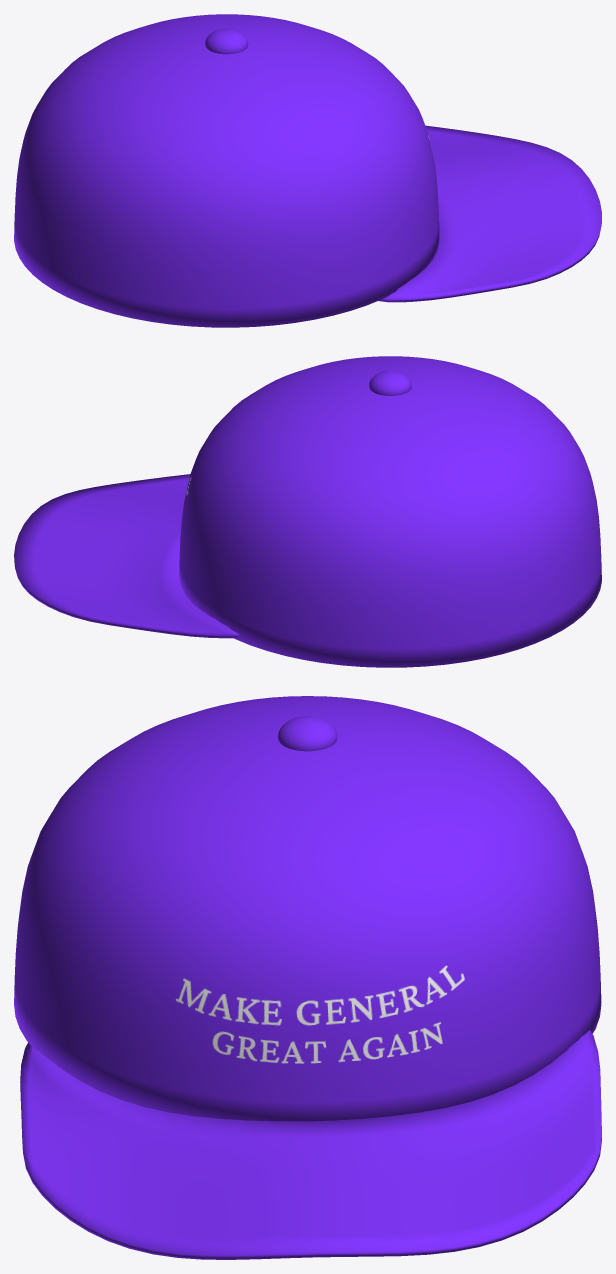
File: monad-cap.gltf
The picture shows the model from 3 angles, top to bottom: view 1: azimuth 30°, elevation 25°; view 2: azimuth 150°, elevation 25°; view 3: azimuth 270°, elevation 25°; orthographic projection. The views are drawn at different scales.
Parts seen in each view (by area): view 1: cap; view 2: cap; view 3: cap.
Part boxes in pixels (x1,y1,x2,y2): cap: [14, 14, 601, 327]; cap: [14, 356, 601, 667]; cap: [14, 696, 601, 1259].
Size of the model in its own units: 0.3541 by 0.1481 by 0.2454.
2 materials, 1 textured.
